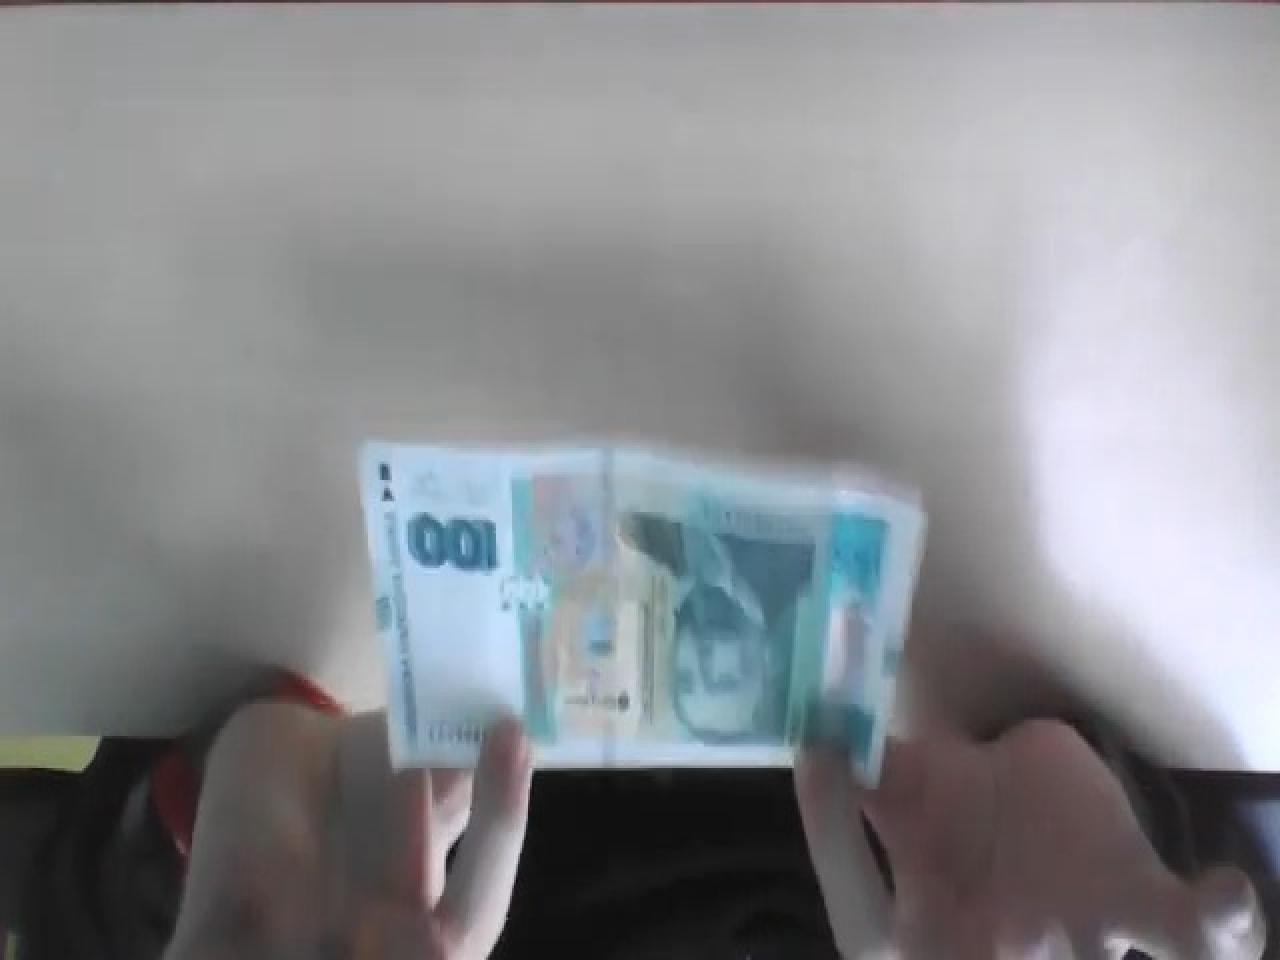100leva: (358, 438, 928, 790), (406, 512, 502, 579)
